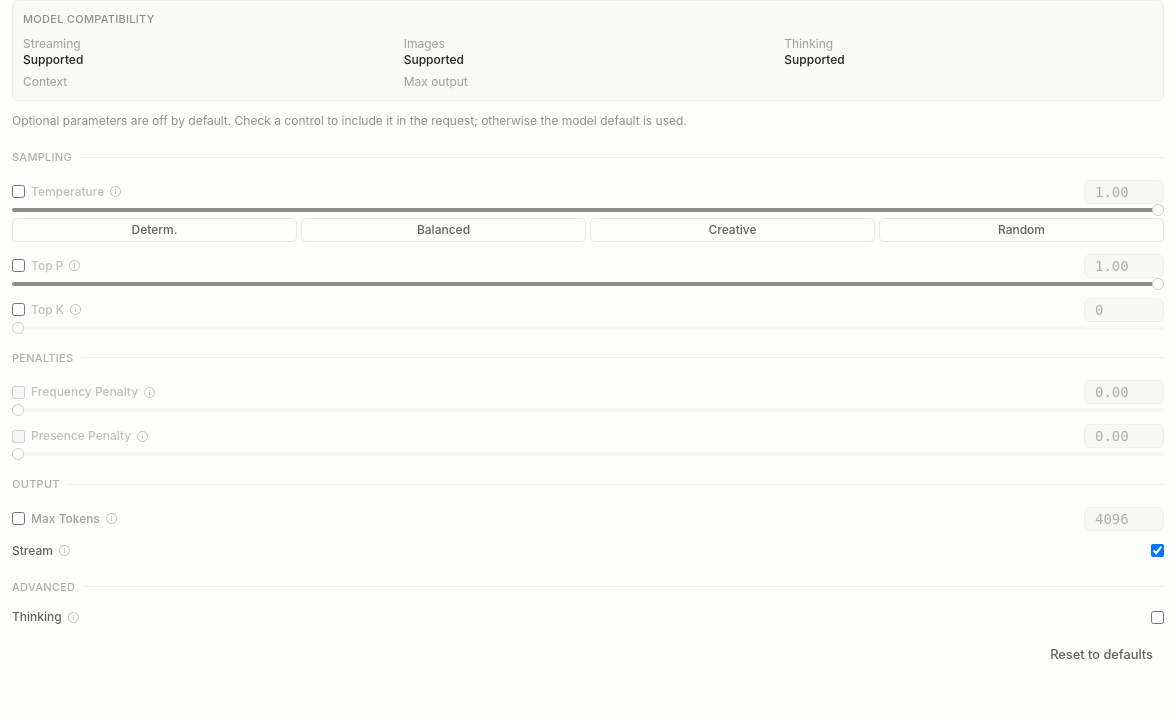
ParameterControls › starts Haiku thinking with a valid budget and disables conflicting sampling
This screenshot has width=1176, height=720.
What coordinates should you click on to do the following:
click the checkbox labelled "Thinking"
I would click on:
 (1158, 617)
Its box is top-left (1151, 610), bottom-right (1164, 624).
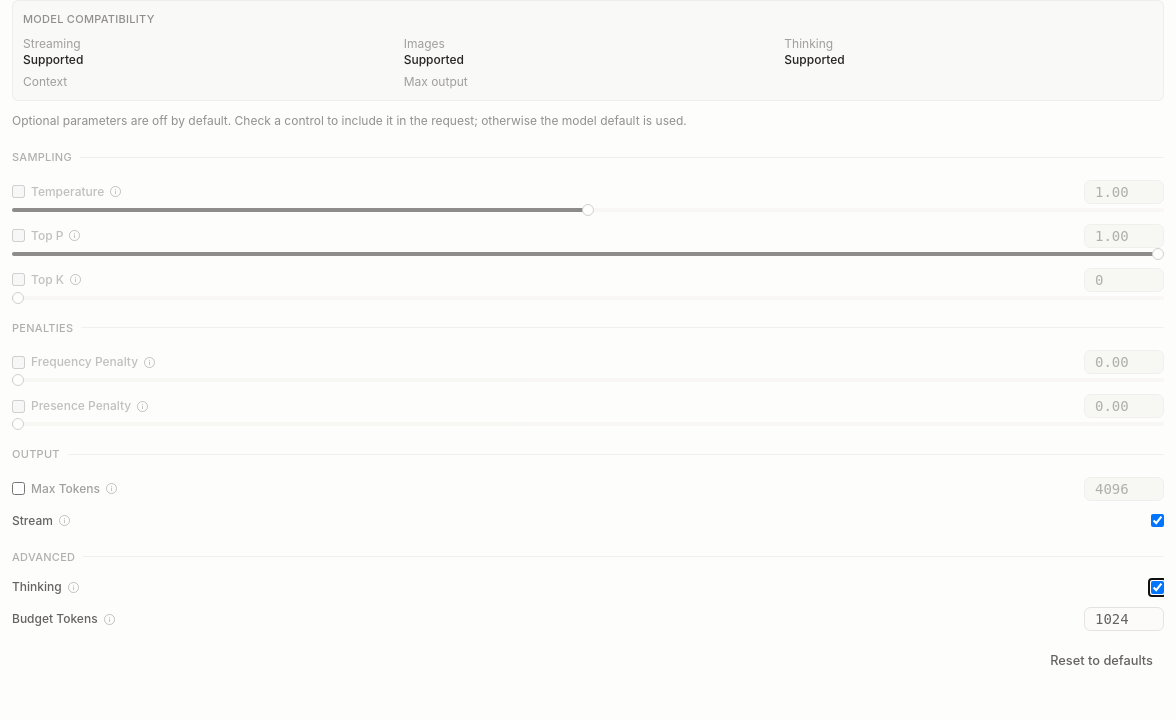
Check: the number field labelled "Budget Tokens" holds "1024", box top-left (1084, 607), bottom-right (1164, 631)
Check: the checkbox named "Include Temperature" is disabled, box top-left (12, 185), bottom-right (25, 198)
Check: the checkbox named "Include Top P" is disabled, box top-left (12, 229), bottom-right (25, 242)
What coordinates should you click on to do the following:
click the checkbox labelled "Thinking"
I would click on:
 (1158, 587)
Its box is top-left (1151, 580), bottom-right (1164, 594).
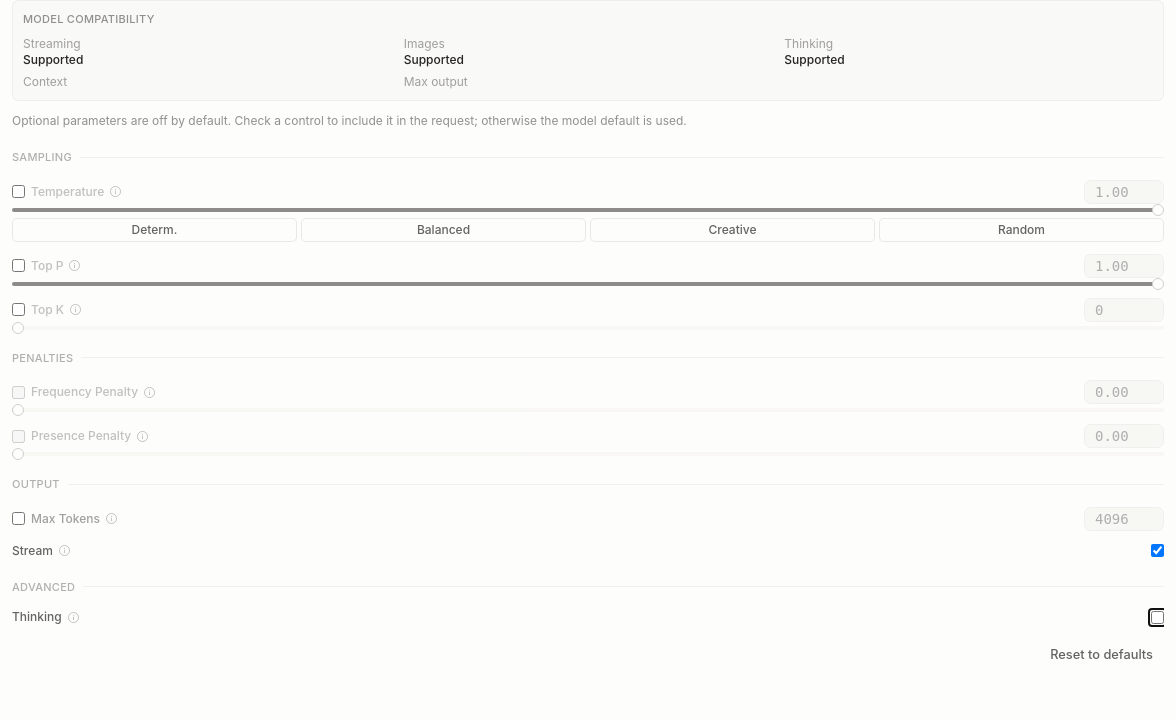
Check: the checkbox named "Include Temperature" is enabled, box top-left (12, 185), bottom-right (25, 198)
